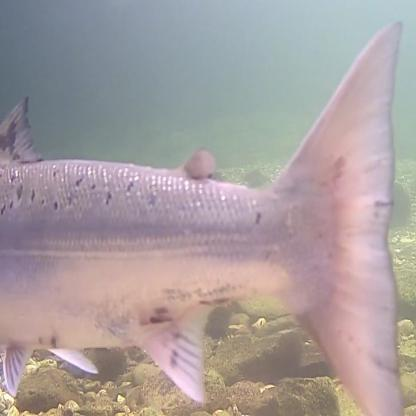salmon: (0, 18, 406, 415)
